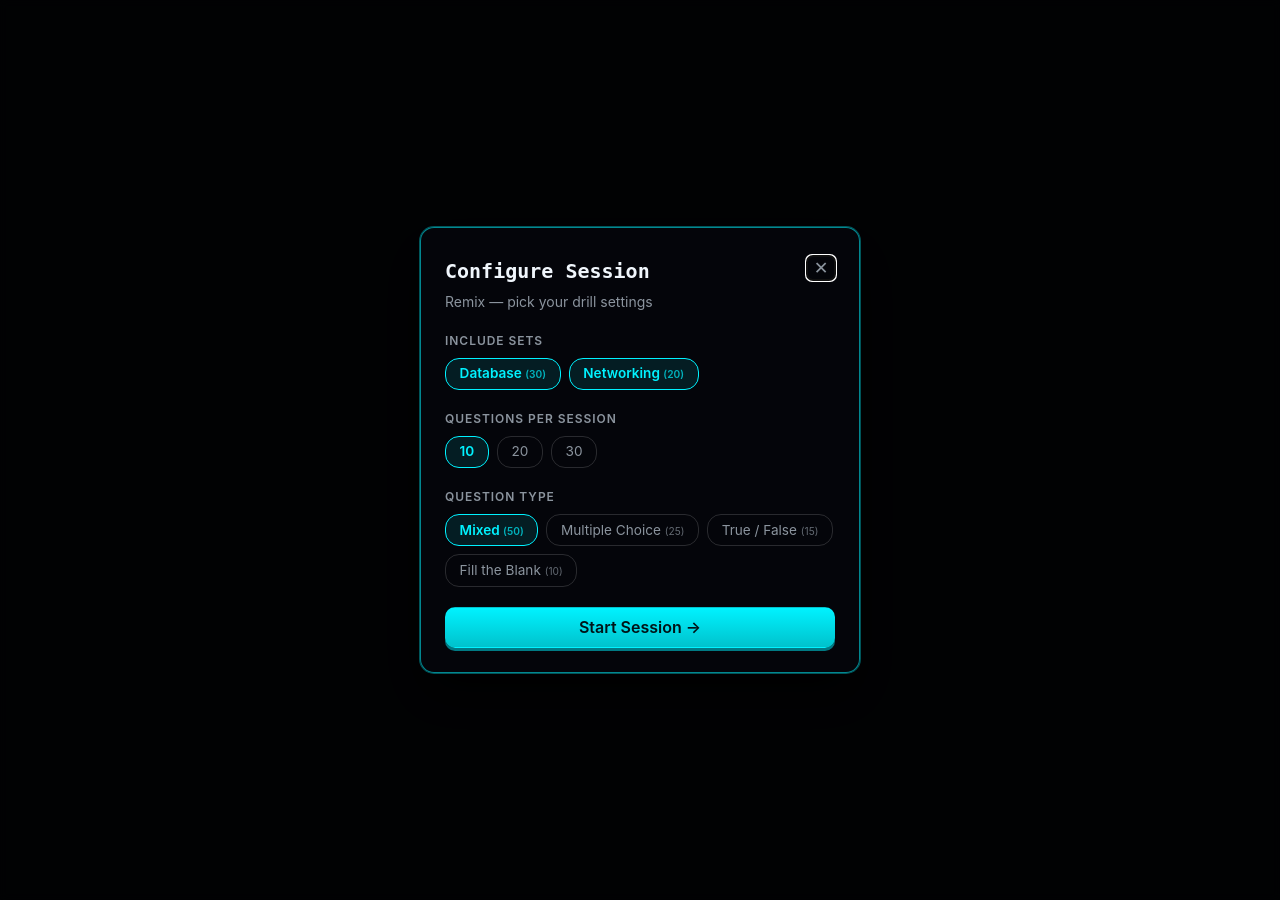
it: SessionConfigModal › reduces available count when a topic is deselected in Remix mode
Click the button "30" at (574, 452), box [551, 436, 597, 468]
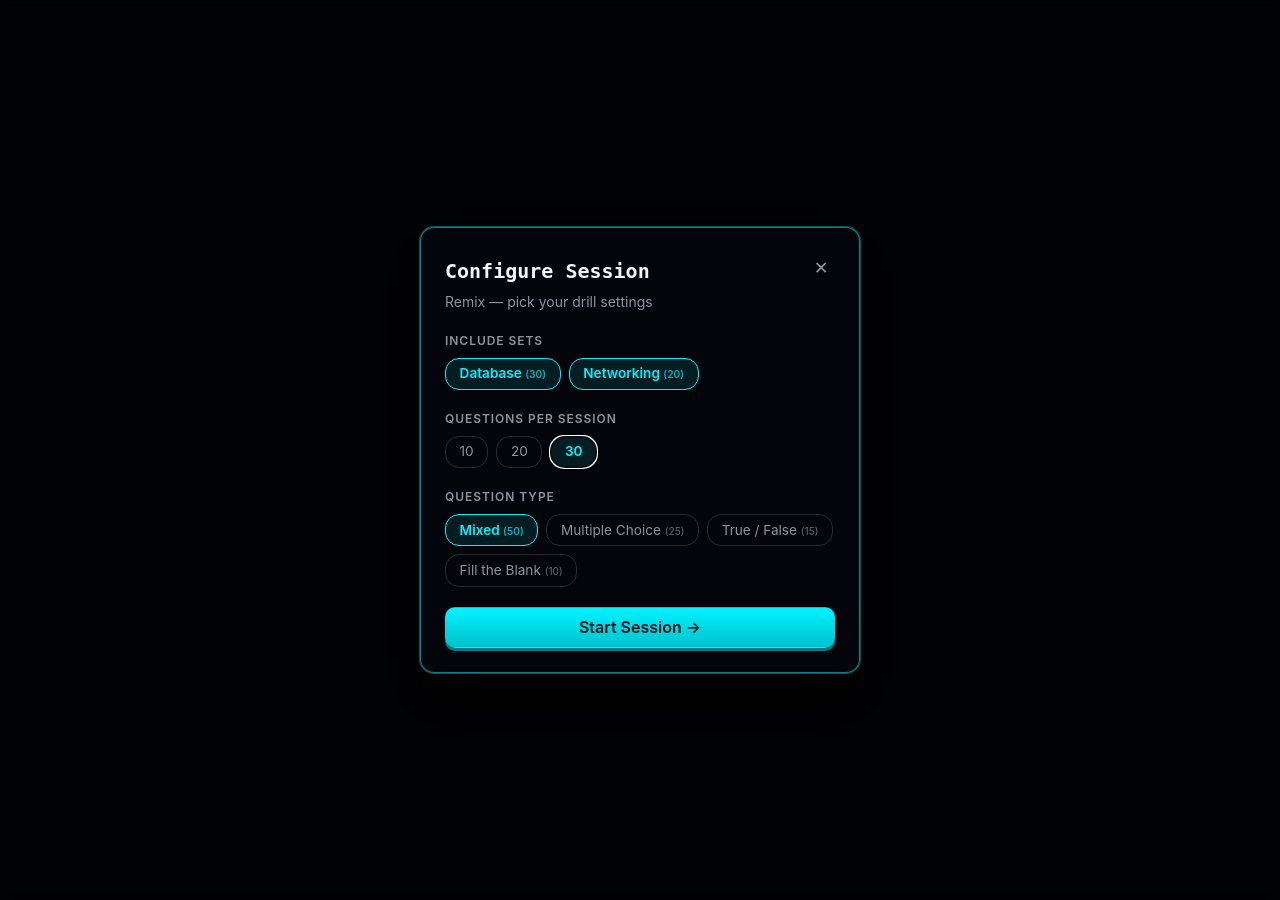
Act — deselect Database
Click the button "Database (30)" at (503, 374), box [445, 358, 561, 390]
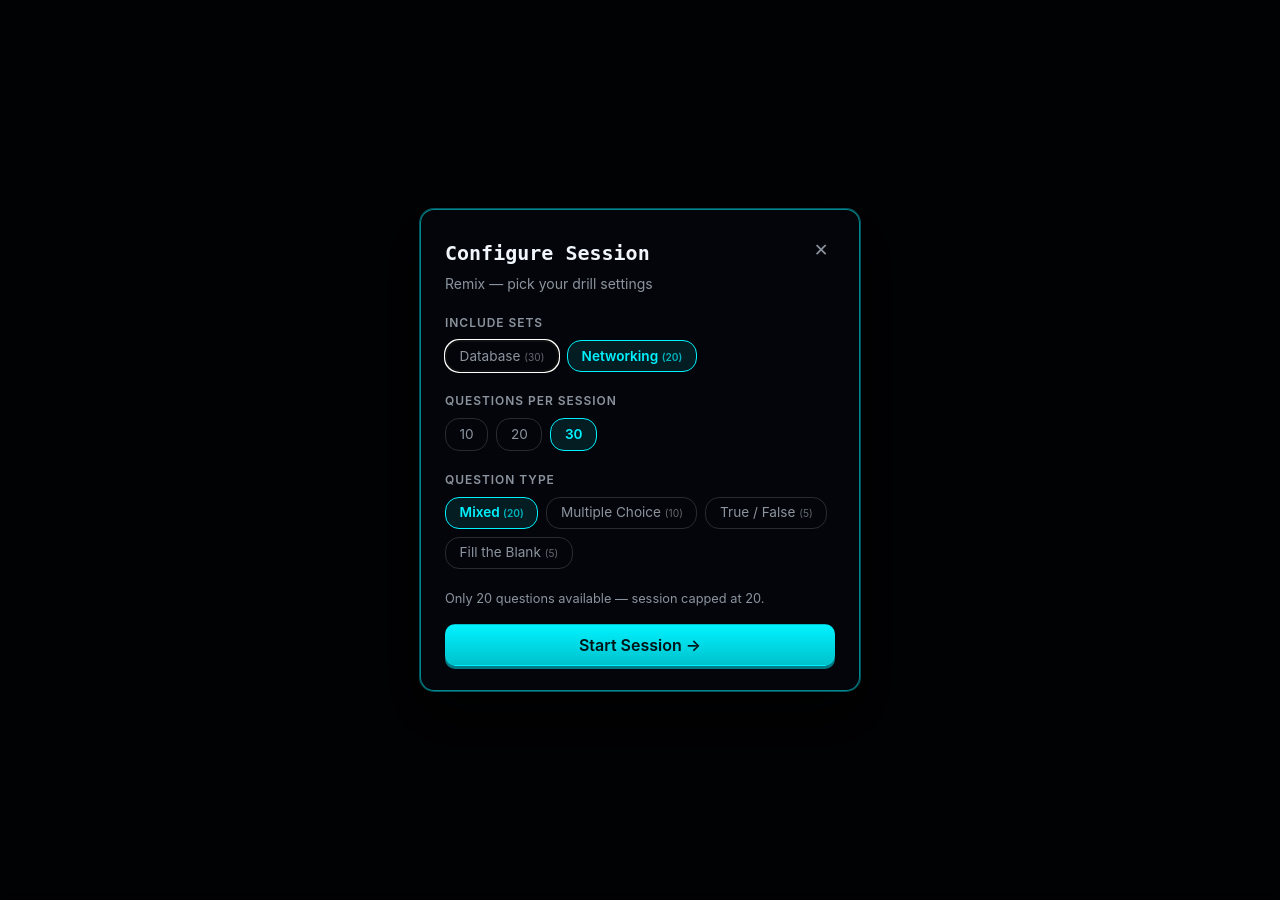
Now the text "Only 20 questions available — session capped at 20." is shown, box [445, 591, 764, 606]
